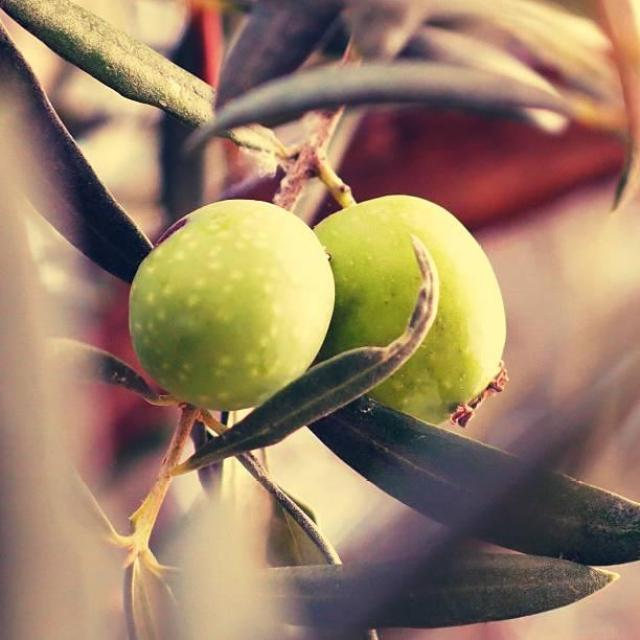Healthy: (130, 200, 334, 410), (315, 196, 505, 416)
